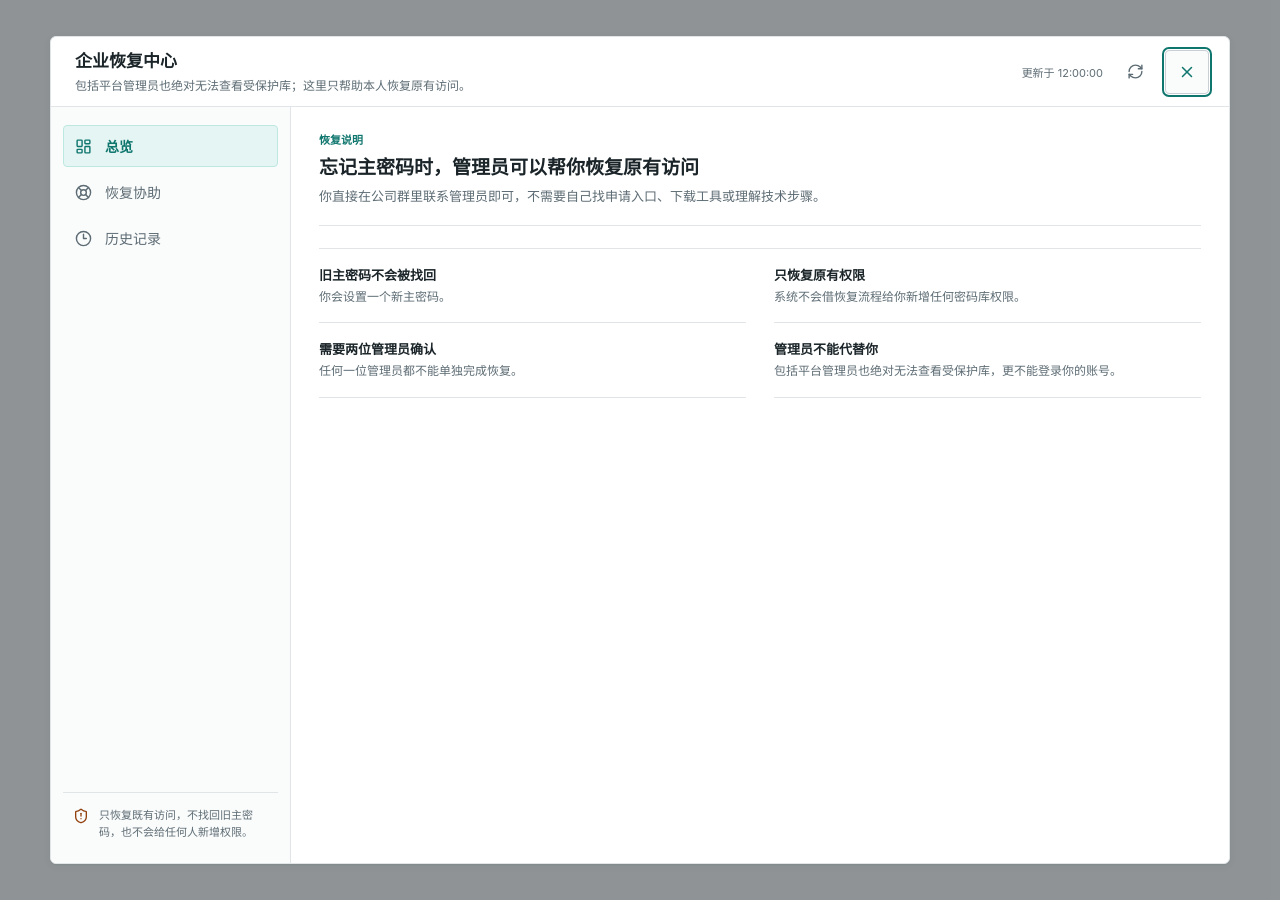
Scenario: enterprise recovery center › shows a focused member workspace without administrator controls
Expected: the heading "企业恢复中心" is shown, [75, 50, 177, 70]
Expected: the navigation bar named "企业恢复功能" is shown, [51, 107, 291, 863]
Click the button "恢复协助": (170,192) [63, 171, 278, 213]
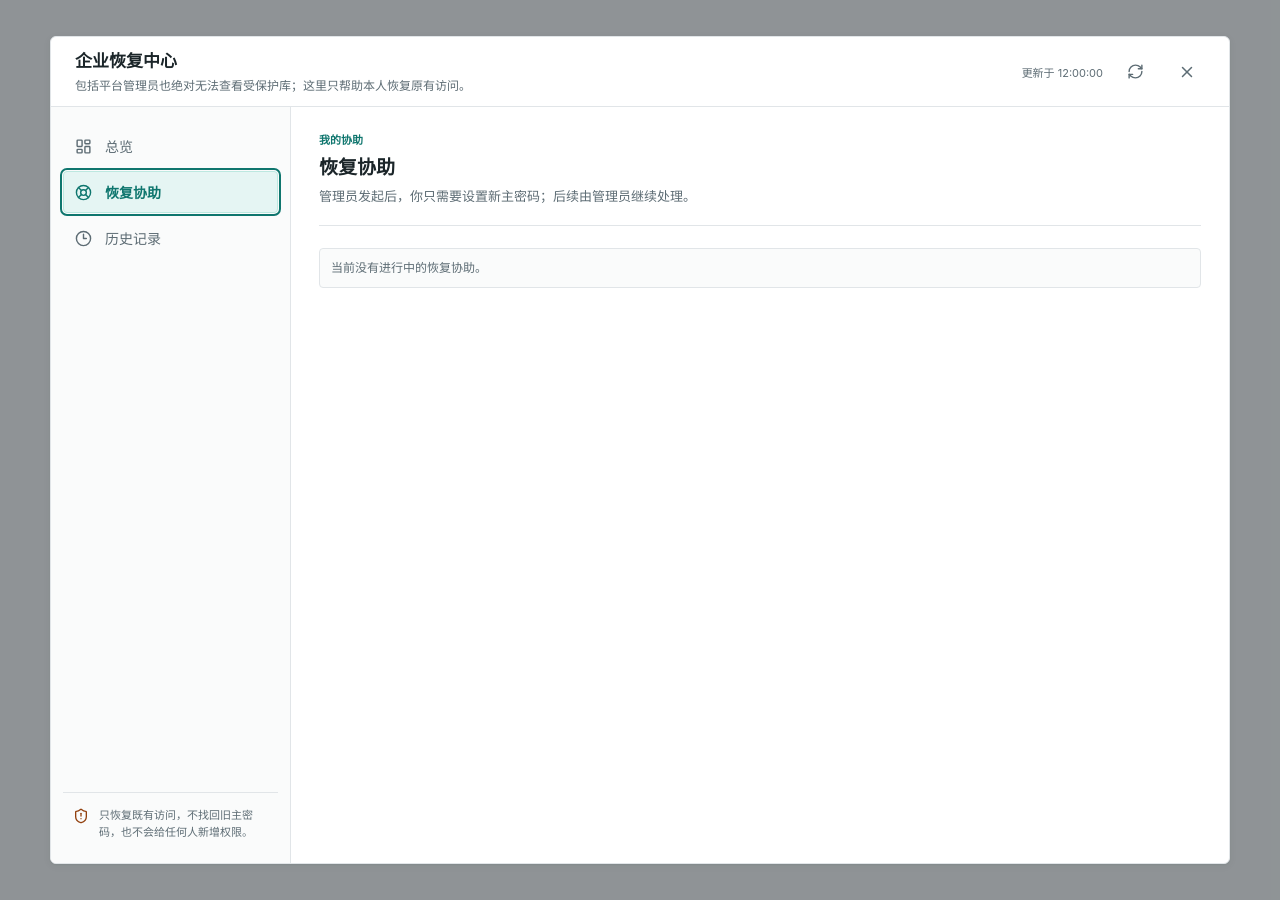
Result: the heading "恢复协助" is shown at [319, 156, 395, 179]
Result: the text "当前没有进行中的恢复协助。" is shown at [319, 248, 1201, 288]
